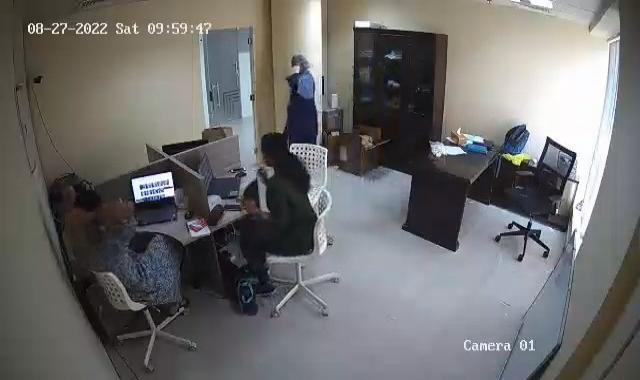hairnet: (290, 50, 313, 78)
no_hairnet: (259, 128, 286, 163)
